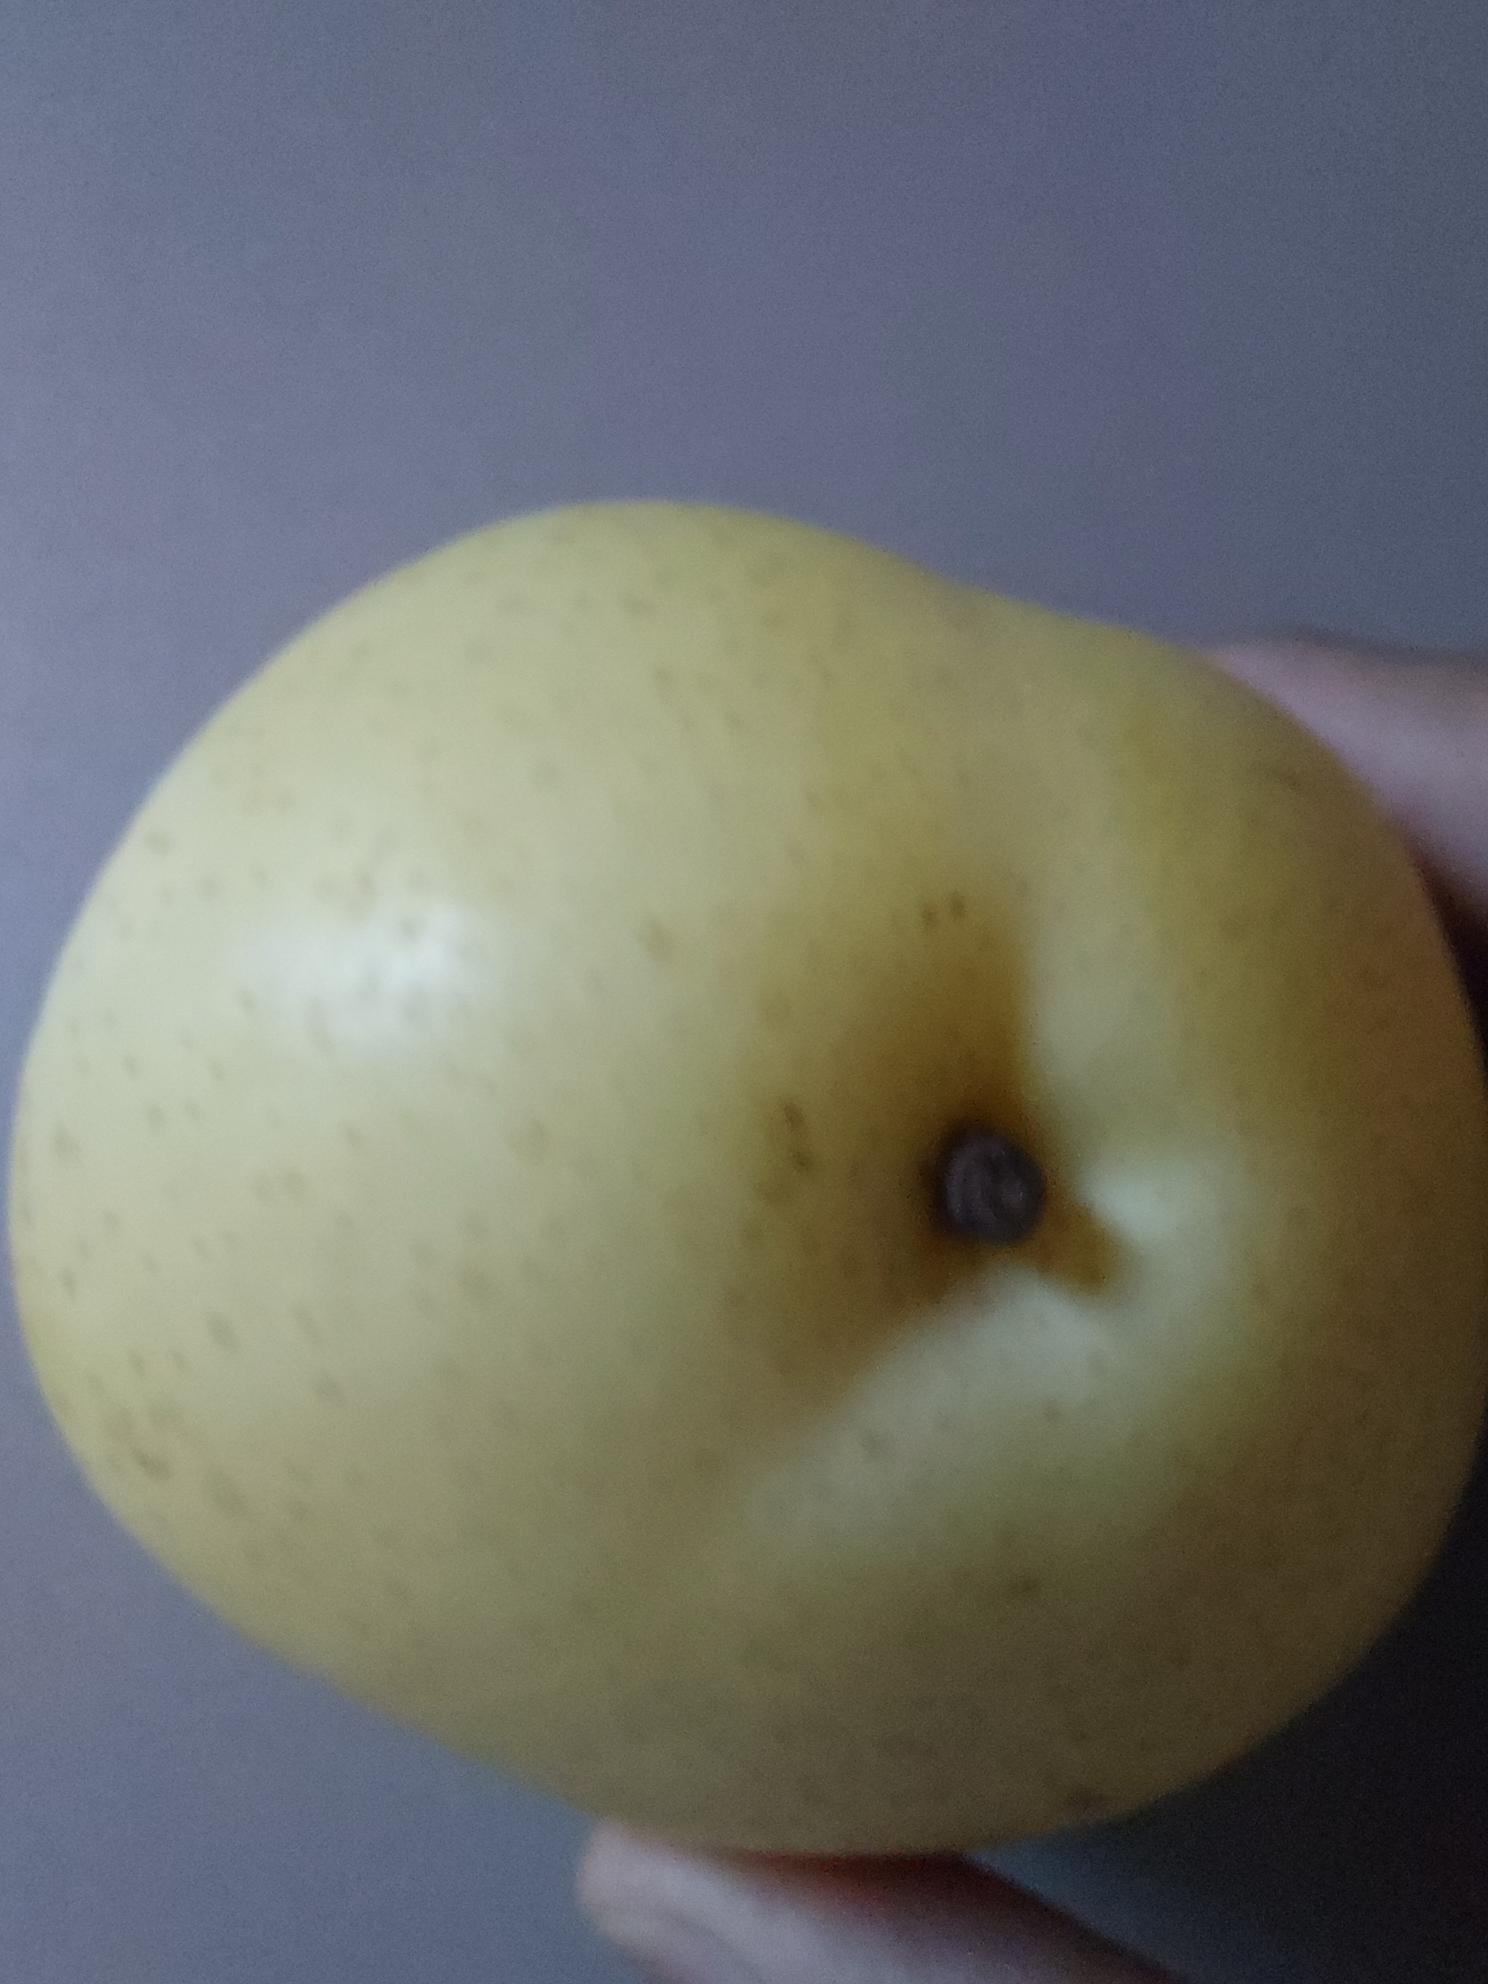Good Pear: (0, 503, 1488, 1864)
